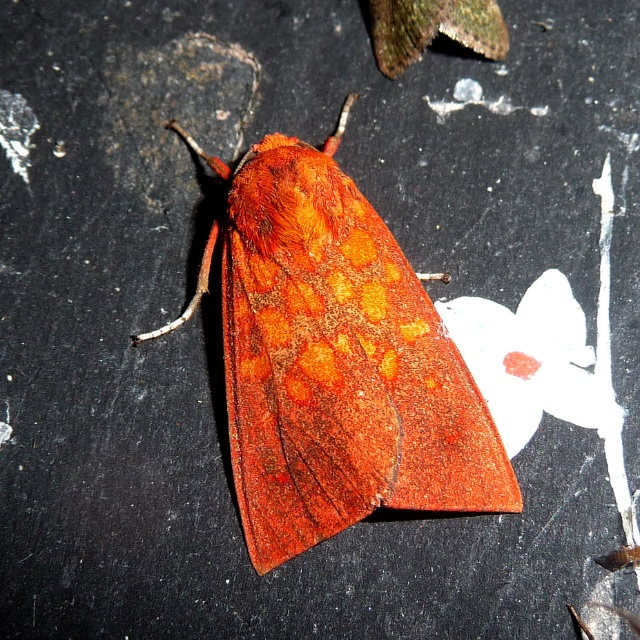Moths and butterflies: (136, 94, 525, 579), (366, 0, 513, 83)
